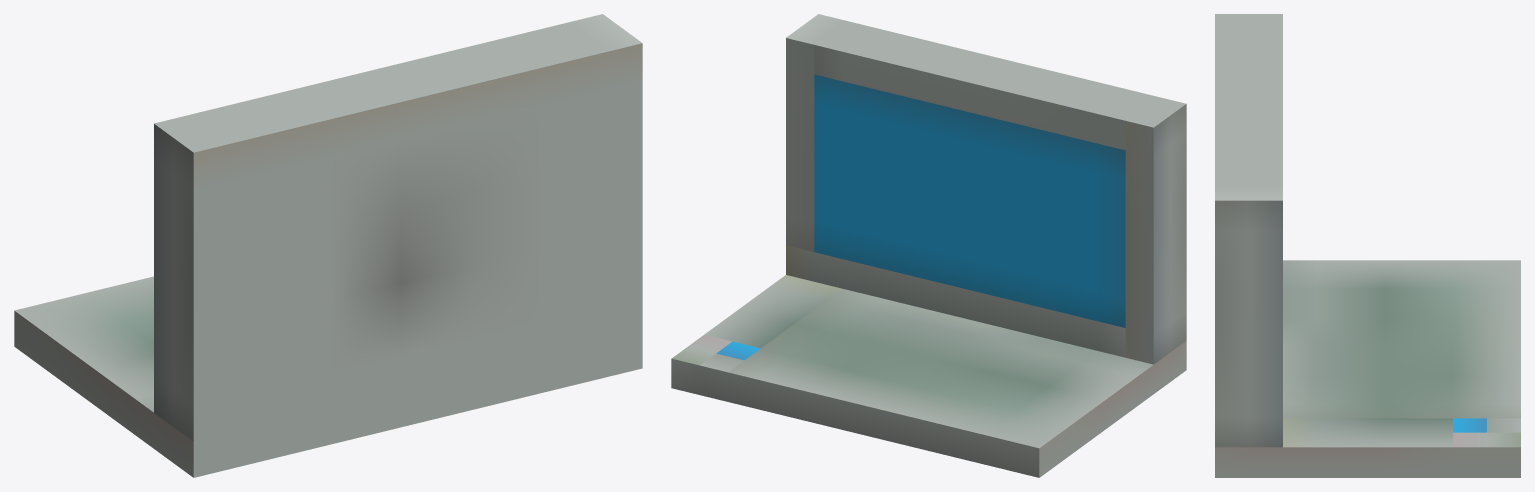
Rendered from Laptop_00.fbx.
3 renders of one model, left to right at view 1: azimuth 30°, elevation 25°; view 2: azimuth 150°, elevation 25°; view 3: azimuth 270°, elevation 25°, orthographic. The views are drawn at different scales.
Parts seen in each view (by area): view 1: Laptop_00; view 2: Laptop_00; view 3: Laptop_00.
Boxes of the visible parts, x1,y1,x2,y2 form: Laptop_00: (14, 14, 642, 477); Laptop_00: (671, 14, 1186, 477); Laptop_00: (1215, 14, 1520, 477).
Size of the model in its own units: 65 by 45 by 45.
2 materials, 2 textured.
